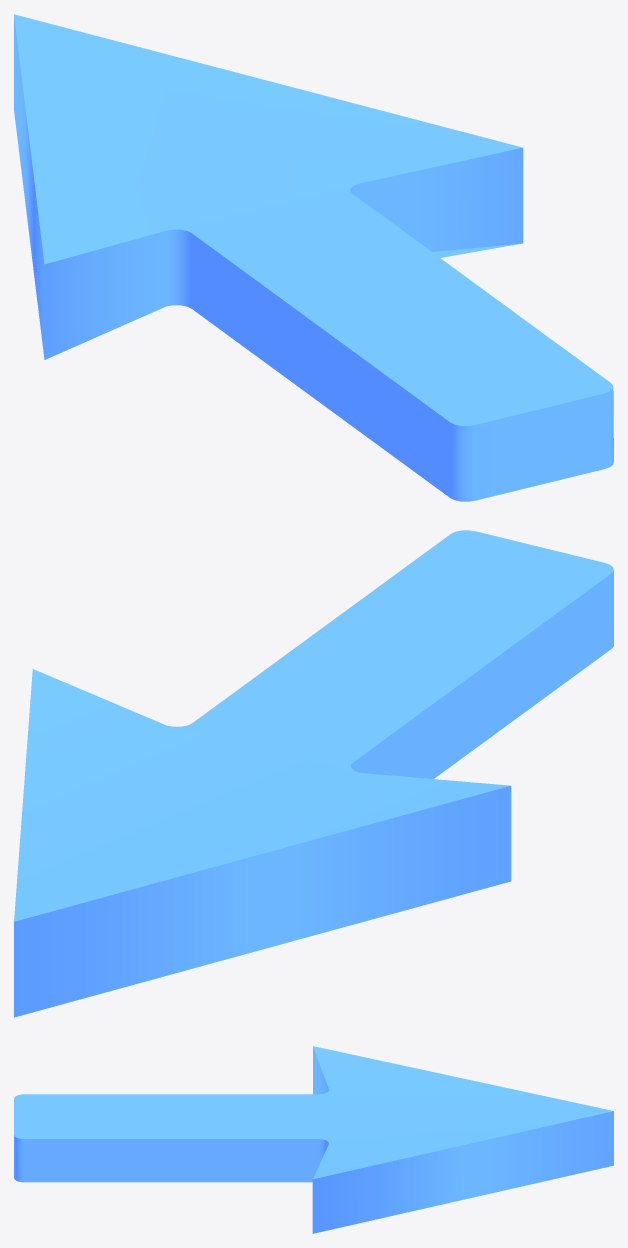
Rendered from 3DArrowBlue.fbx.
3 views of the same model, one above another, from view 1: azimuth 30°, elevation 25°; view 2: azimuth 150°, elevation 25°; view 3: azimuth 270°, elevation 25° (orthographic). The views are drawn at different scales.
Visible parts, largest first — view 1: _3DArrowBlue; view 2: _3DArrowBlue; view 3: _3DArrowBlue.
Boxes of the visible parts, left/top/right/bottom form: _3DArrowBlue: left=14, top=14, right=613, bottom=501; _3DArrowBlue: left=14, top=530, right=613, bottom=1017; _3DArrowBlue: left=14, top=1046, right=613, bottom=1233.
Size of the model in its own units: 28.18 by 5.39 by 53.62.
